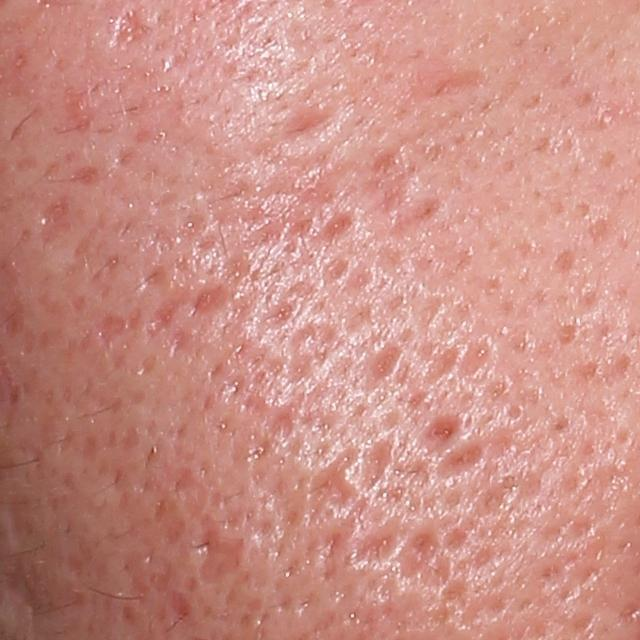atrophic_scar: (360, 140, 450, 248), (306, 443, 359, 529), (343, 513, 411, 576), (192, 514, 246, 587), (288, 319, 342, 386), (428, 428, 489, 485), (386, 525, 440, 586), (402, 67, 490, 102), (140, 288, 190, 348), (356, 431, 399, 498), (40, 195, 89, 252), (277, 108, 340, 148), (3, 564, 50, 614), (107, 2, 153, 51), (369, 338, 409, 393), (416, 411, 463, 454), (257, 402, 299, 447), (188, 278, 229, 322), (161, 585, 196, 625), (92, 313, 125, 349), (71, 163, 106, 188)
